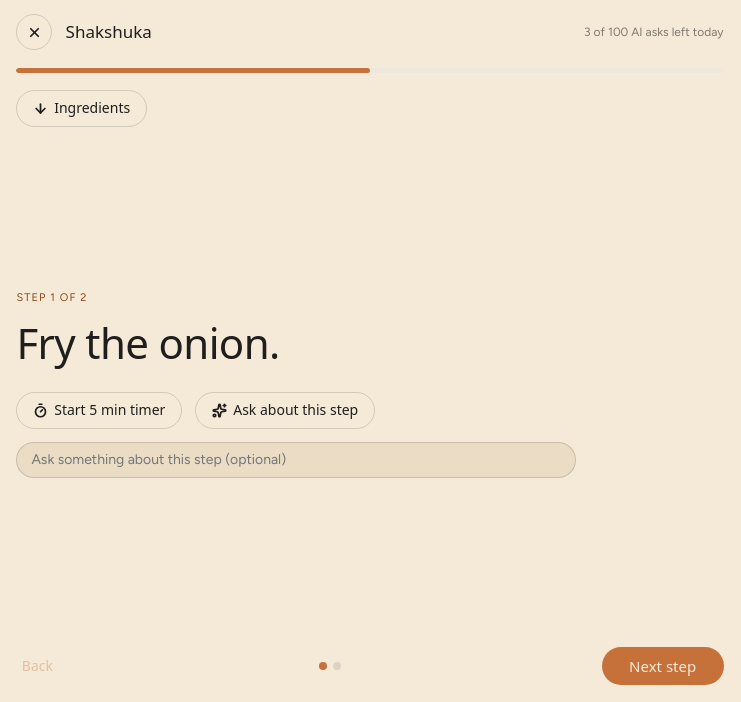
Test: CookScreen › COOK-1 starts at step 1 of the recipe and advances with Next step
Expected: the text "Step 1 of 2" is shown, [16, 291, 88, 304]
Expected: the heading reads "Fry the onion.", [16, 314, 280, 371]
Click the button "Next step".
click(663, 666)  # box [602, 647, 724, 685]
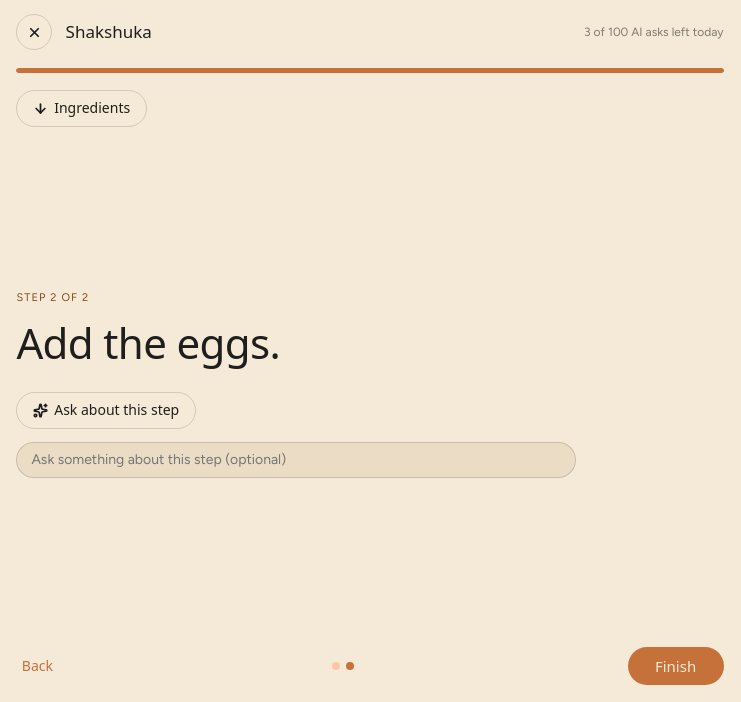
Result: the text "Step 2 of 2" is shown at [16, 291, 89, 304]
Result: the heading reads "Add the eggs." at [16, 314, 280, 371]
